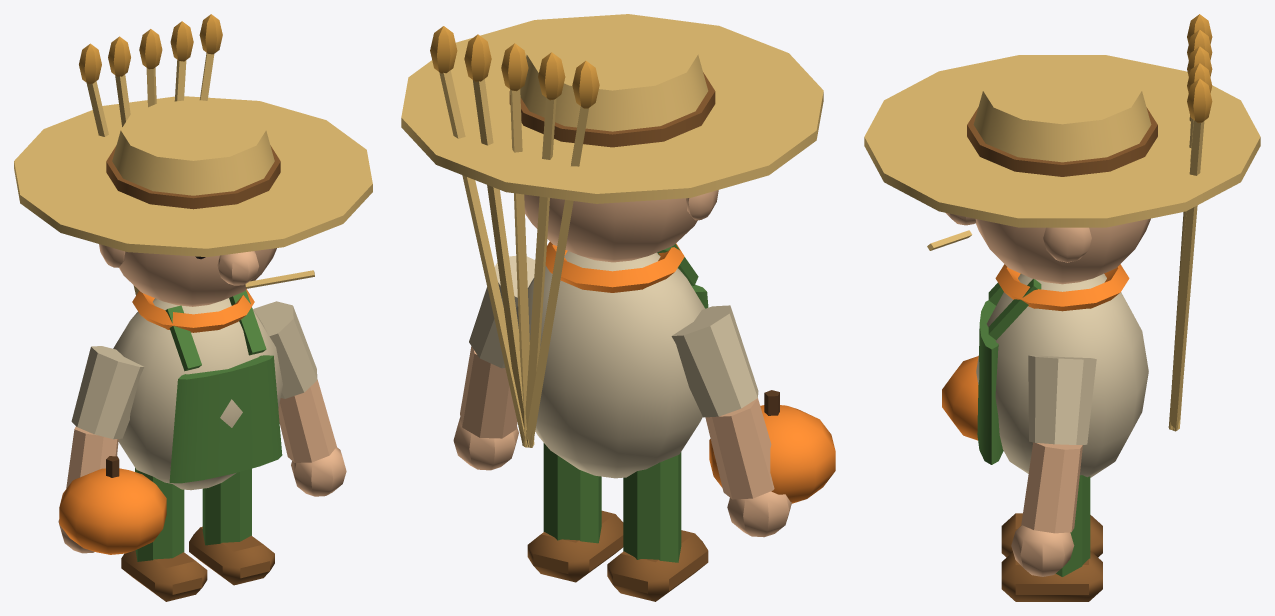
File: CH_Cust_31_HasatKoylusu.fbx
The picture shows the model from 3 angles, left to right: view 1: azimuth 30°, elevation 25°; view 2: azimuth 150°, elevation 25°; view 3: azimuth 270°, elevation 25°; orthographic projection. The views are drawn at different scales.
Visible parts, largest first — view 1: CH_Cust_31_HasatKoylusu; view 2: CH_Cust_31_HasatKoylusu; view 3: CH_Cust_31_HasatKoylusu.
Part boxes in pixels (x1,y1,x2,y2): CH_Cust_31_HasatKoylusu: [14, 14, 372, 601]; CH_Cust_31_HasatKoylusu: [401, 14, 835, 601]; CH_Cust_31_HasatKoylusu: [864, 14, 1260, 601].
Size of the model in its own units: 0.761 by 1.17 by 0.78.
